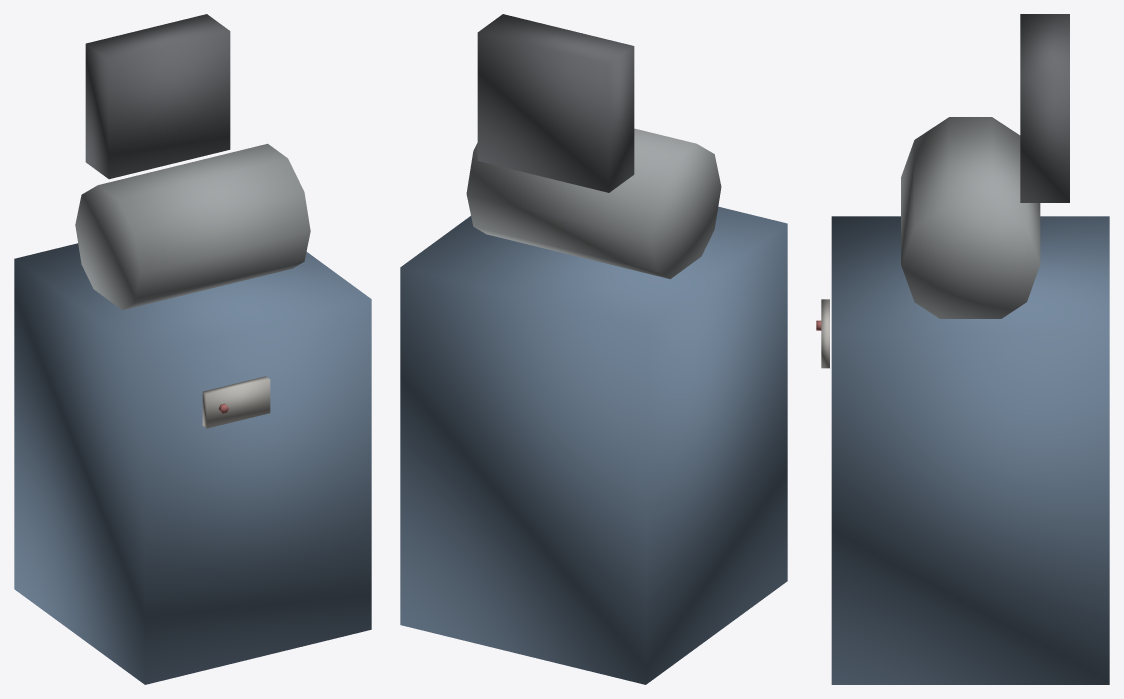
Rendered from wheel_balancer.glb.
3 renders of one model, left to right at view 1: azimuth 30°, elevation 25°; view 2: azimuth 150°, elevation 25°; view 3: azimuth 270°, elevation 25°, orthographic. The views are drawn at different scales.
Visible parts, largest first — view 1: world; view 2: world; view 3: world.
Part boxes in pixels (x1=…): world: x1=14, y1=14, x2=371, y2=684; world: x1=400, y1=14, x2=787, y2=684; world: x1=816, y1=14, x2=1109, y2=684.
Size of the model in its own units: 0.56 by 1.29 by 0.591.
